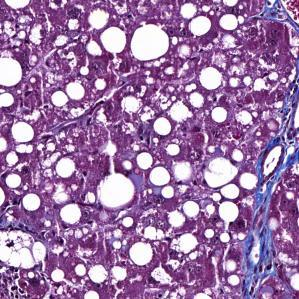fibrosis: (240, 142, 291, 291)
